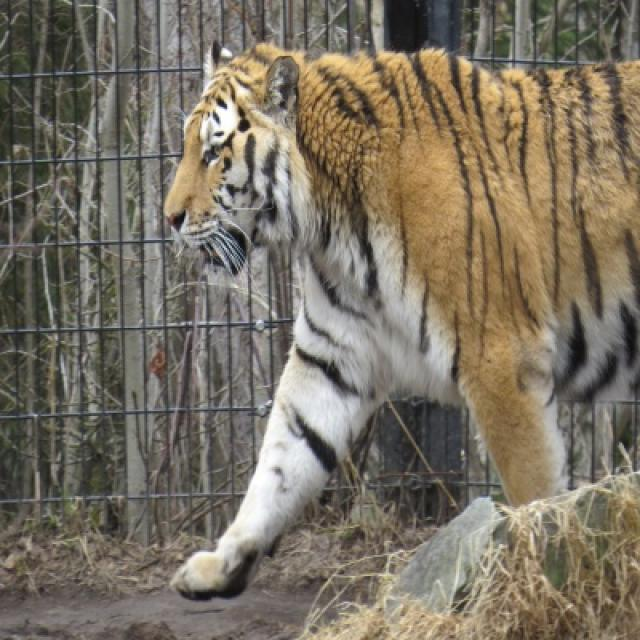Tiger: (159, 30, 638, 603)
